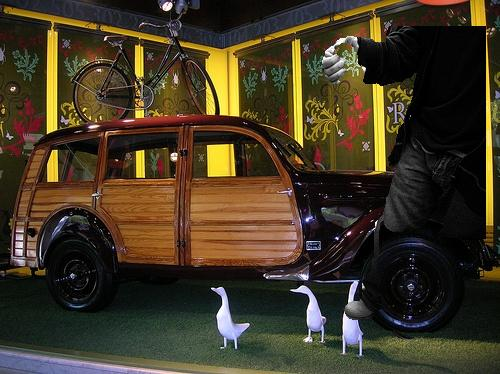tampered: (323, 27, 486, 340)
